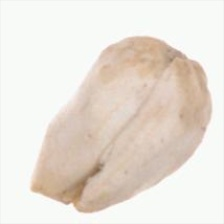L3: (30, 181, 88, 214)
L4: (30, 36, 212, 212)
